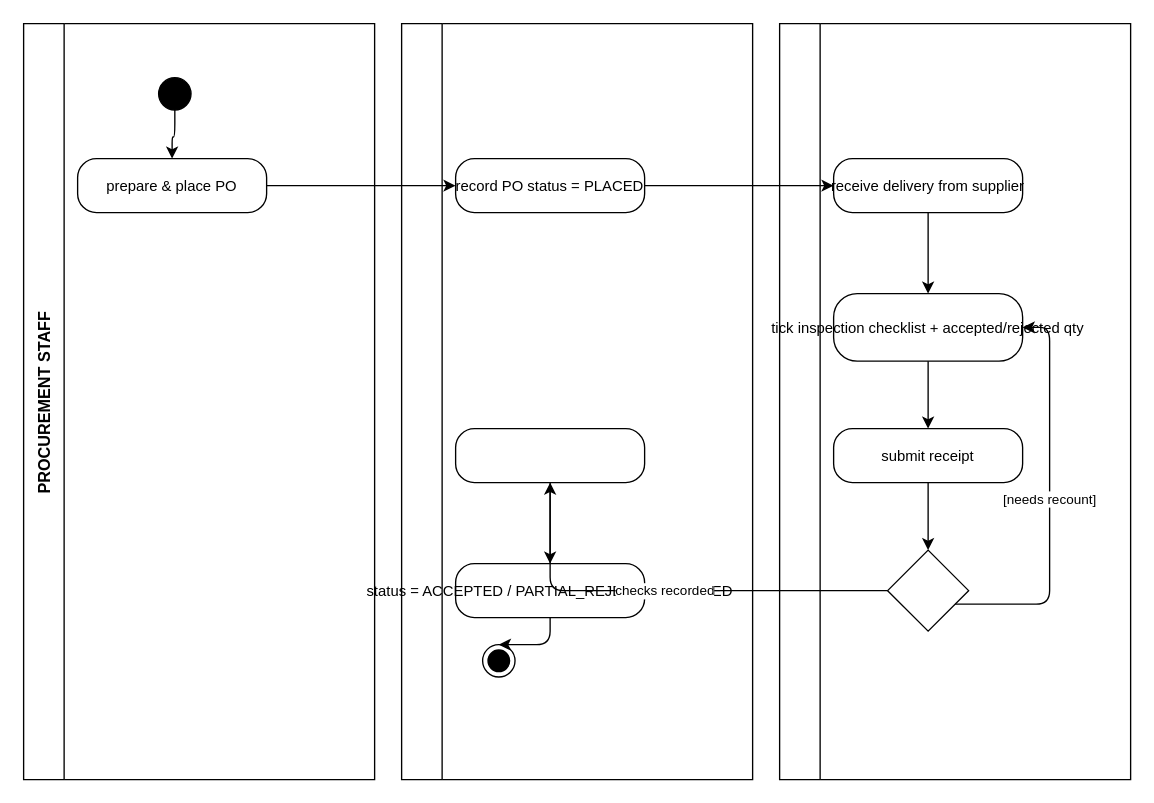
Some shapes in this 1154 by 803 pixel diagram are drawn without their labels. The box of each missing label's shape, as (x1, y1, x2, y2) in pixels:
SYSTEM: (400, 22, 753, 780)
update order status + finalize receipt: (454, 427, 645, 483)
WAREHOUSE STAFF: (778, 22, 1131, 780)
